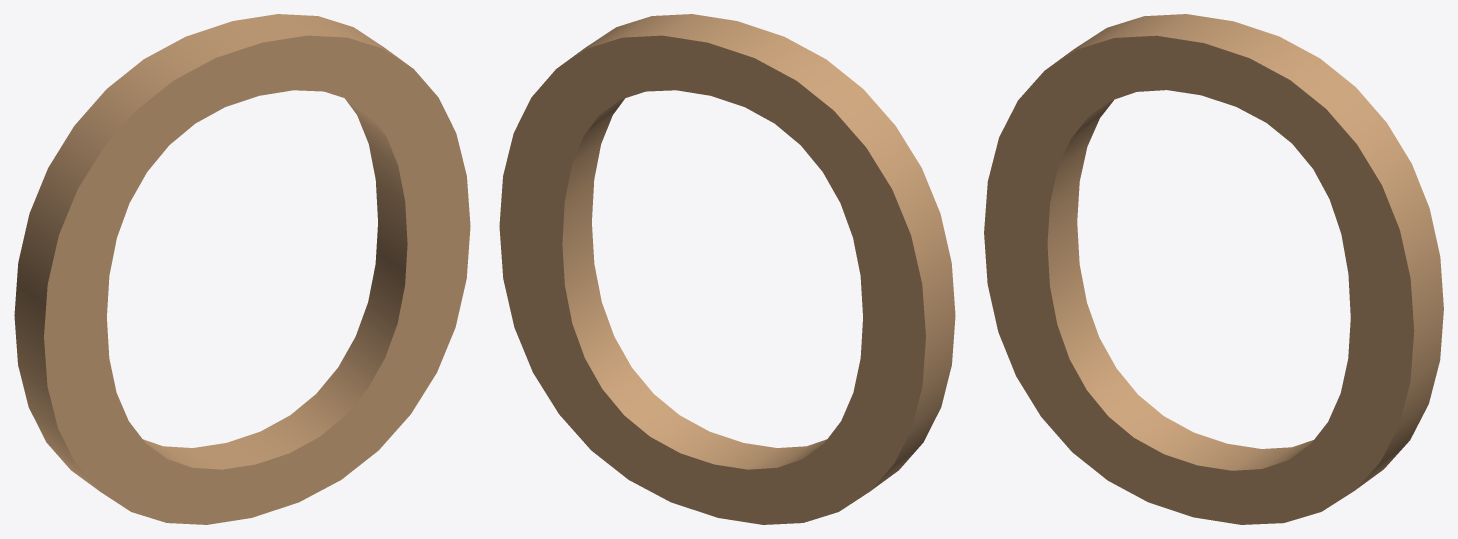
Rendered from original-8.obj.
The picture shows the model from 3 angles, left to right: view 1: azimuth 30°, elevation 25°; view 2: azimuth 150°, elevation 25°; view 3: azimuth 330°, elevation 25°; orthographic projection.
Parts seen in each view (by area): view 1: mesh11/mesh11-geometry#mesh11-geometry; view 2: mesh11/mesh11-geometry#mesh11-geometry; view 3: mesh11/mesh11-geometry#mesh11-geometry.
Part boxes in pixels (<box>): mesh11/mesh11-geometry#mesh11-geometry: <box>14,14,470,524</box>; mesh11/mesh11-geometry#mesh11-geometry: <box>499,14,955,524</box>; mesh11/mesh11-geometry#mesh11-geometry: <box>984,14,1443,524</box>.
Size of the model in its own units: 0.01 by 0.0106 by 0.0012.
